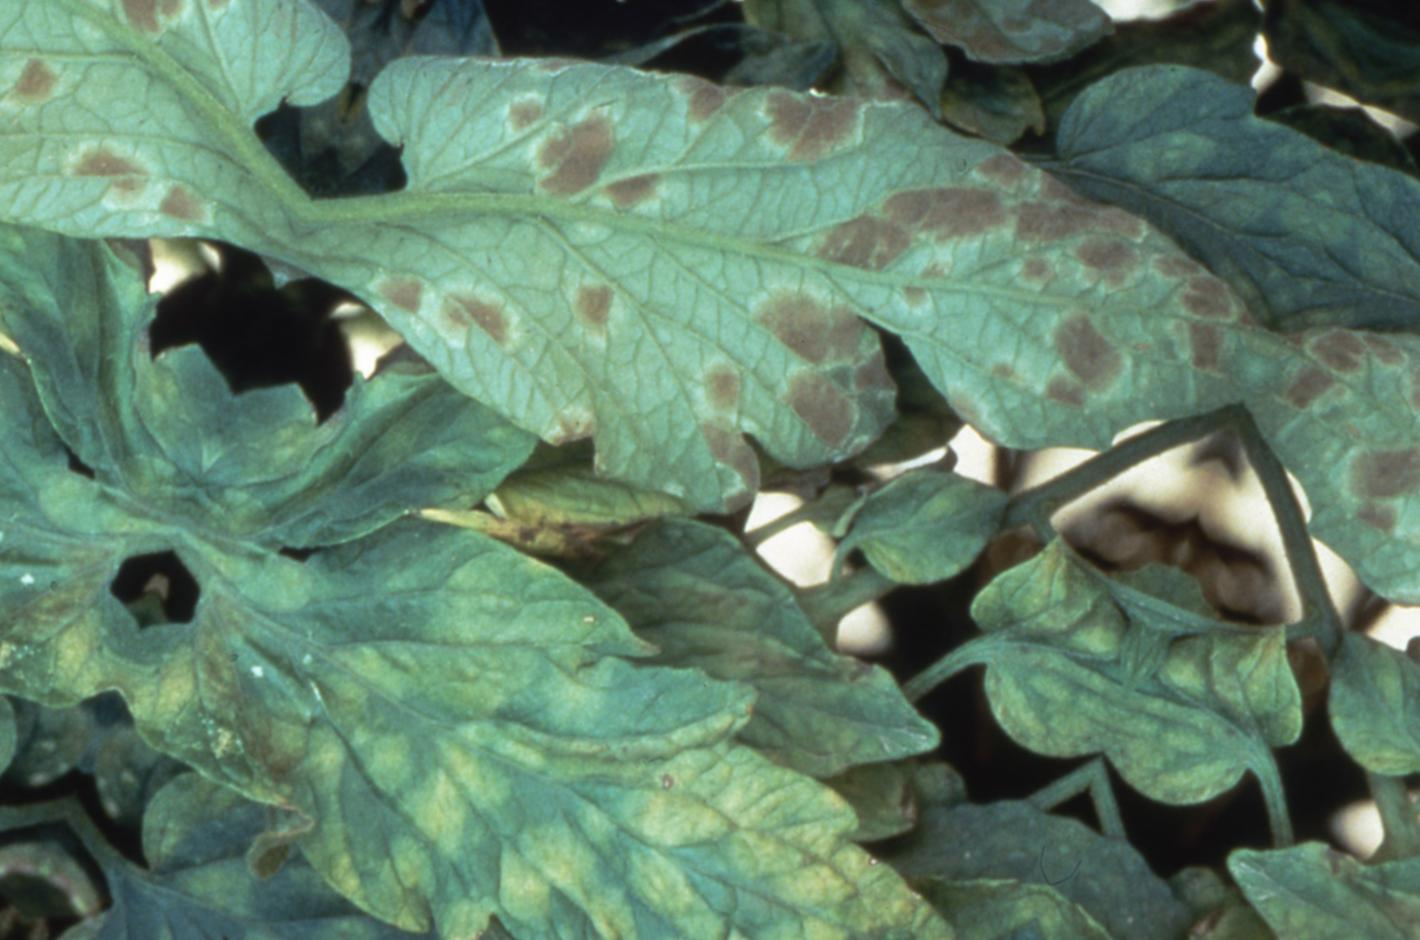Tomato mold leaf: (257, 0, 1308, 687), (67, 440, 1059, 940), (67, 735, 793, 940), (924, 492, 1181, 785)
